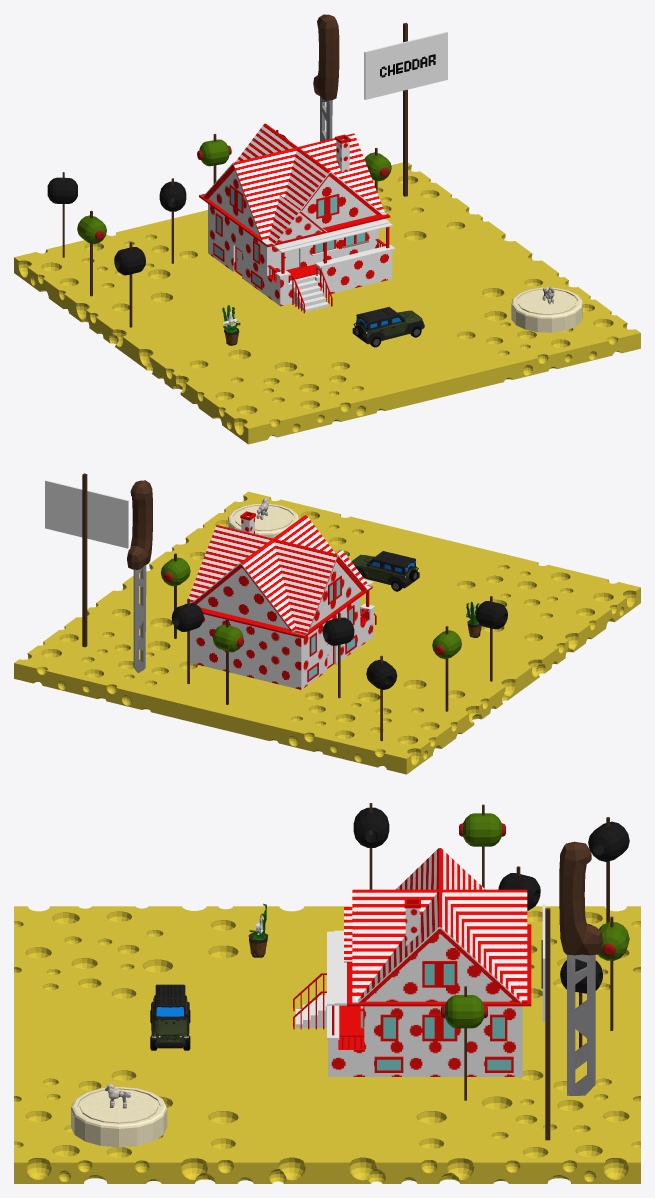
3 renders of one model, top to bottom at view 1: azimuth 30°, elevation 25°; view 2: azimuth 150°, elevation 25°; view 3: azimuth 270°, elevation 25°, orthographic. The views are drawn at different scales.
Parts seen in each view (by area): view 1: Cube.022, Cube.196, Cube.023, Cylinder.016, Cube.024, VEHICLES_JEEP, Sphere.017, Sphere.016, Sphere.020, Sphere.018, Sphere.022, Sphere.019; view 2: Cube.022, Cube.196, Cube.023, Cube.024, VEHICLES_JEEP, Cylinder.016, Sphere.017, Sphere.020, Sphere.021, Sphere.016, Sphere.018, Sphere.022 (+1 smaller); view 3: Cube.022, Cube.196, Cube.024, Cylinder.016, VEHICLES_JEEP, Cube.023, Sphere.019, Sphere.016, Sphere.018, Sphere.017, Sphere.022, Sphere.020 (+2 smaller).
Part boxes in pixels (<box>): Cube.022: <box>14,162,640,444</box>; Cube.196: <box>199,123,395,313</box>; Cube.023: <box>364,23,447,196</box>; Cylinder.016: <box>511,287,582,332</box>; Cube.024: <box>313,14,339,141</box>; VEHICLES_JEEP: <box>352,306,424,347</box>; Sphere.017: <box>114,242,145,327</box>; Sphere.016: <box>47,172,77,257</box>; Sphere.020: <box>159,178,186,263</box>; Sphere.018: <box>77,210,106,296</box>; Sphere.022: <box>197,134,231,183</box>; Sphere.019: <box>364,148,391,192</box>; Cube.022: <box>14,491,640,774</box>; Cube.196: <box>184,511,376,689</box>; Cube.023: <box>45,473,128,647</box>; Cube.024: <box>127,480,152,672</box>; VEHICLES_JEEP: <box>351,551,419,591</box>; Cylinder.016: <box>228,503,298,538</box>; Sphere.017: <box>476,596,507,681</box>; Sphere.020: <box>322,612,354,698</box>; Sphere.021: <box>171,598,203,683</box>; Sphere.016: <box>366,655,397,741</box>; Sphere.018: <box>432,626,461,711</box>; Sphere.022: <box>212,619,244,704</box>; Cube.022: <box>14,906,640,1183</box>; Cube.196: <box>293,848,531,1076</box>; Cube.024: <box>559,841,602,1095</box>; Cylinder.016: <box>71,1086,167,1147</box>; VEHICLES_JEEP: <box>150,984,190,1050</box>; Cube.023: <box>541,904,550,1140</box>; Sphere.019: <box>441,986,487,1100</box>; Sphere.016: <box>588,817,629,922</box>; Sphere.018: <box>459,804,505,888</box>; Sphere.017: <box>353,803,389,889</box>; Sphere.022: <box>598,916,629,1030</box>; Sphere.020: <box>498,866,540,910</box>.
Bounding box in the file's own units: 3917 × 2159 × 4000.
Materials: 33 (4 with a texture image).
